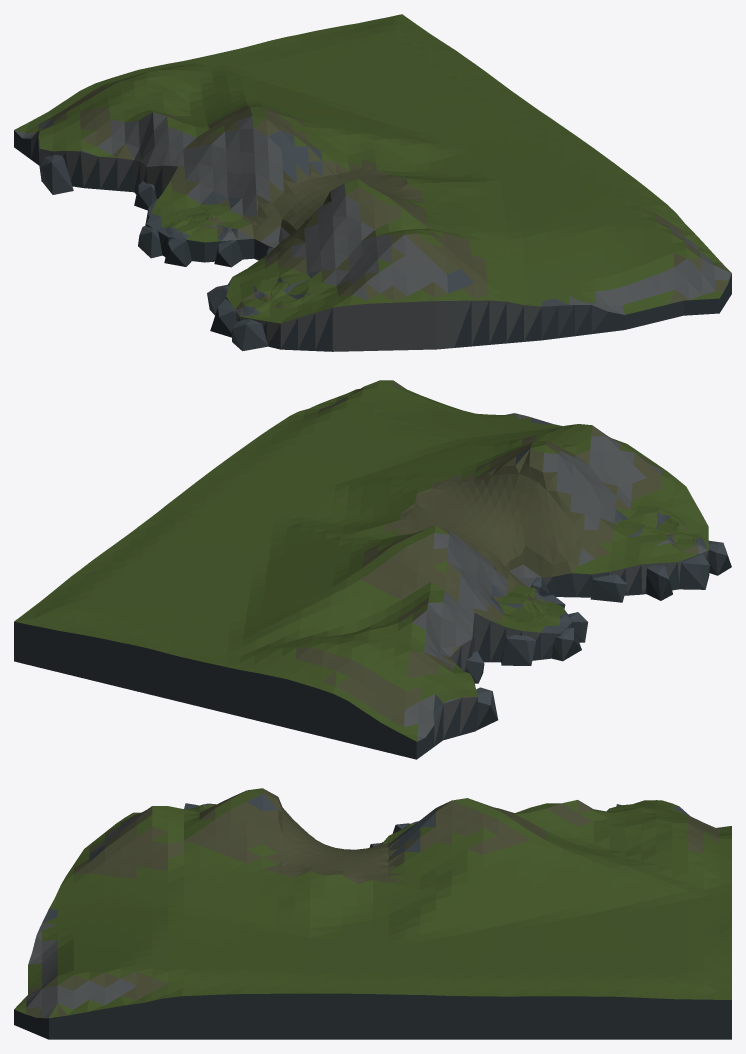
File: mainland_headland.glb
3 renders of one model, top to bottom at view 1: azimuth 30°, elevation 25°; view 2: azimuth 150°, elevation 25°; view 3: azimuth 270°, elevation 25°, orthographic. The views are drawn at different scales.
Visible parts, largest first — view 1: Mainland headland continuous bedrock and grass terraces; view 2: Mainland headland continuous bedrock and grass terraces; view 3: Mainland headland continuous bedrock and grass terraces.
Boxes of the visible parts, x1=… form: Mainland headland continuous bedrock and grass terraces: x1=14, y1=14, x2=731, y2=351; Mainland headland continuous bedrock and grass terraces: x1=14, y1=380, x2=731, y2=759; Mainland headland continuous bedrock and grass terraces: x1=14, y1=788, x2=731, y2=1039.
Bounding box in the file's own units: 293 × 68.9 × 410.
